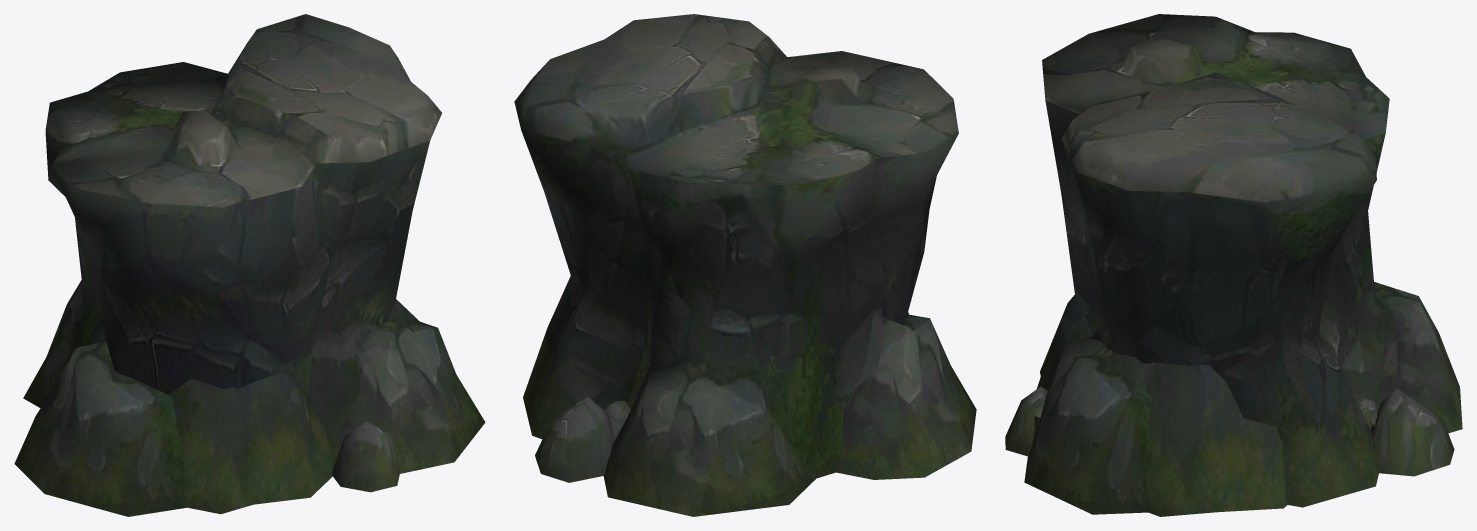
Rendered from h5_shitou_01.FBX.
The picture shows the model from 3 angles, left to right: view 1: azimuth 30°, elevation 25°; view 2: azimuth 150°, elevation 25°; view 3: azimuth 270°, elevation 25°; orthographic projection. The views are drawn at different scales.
Visible parts, largest first — view 1: h5_shitou_01; view 2: h5_shitou_01; view 3: h5_shitou_01.
Part boxes in pixels (box(x1,y1,x2,y2)): h5_shitou_01: box(14, 14, 485, 516); h5_shitou_01: box(514, 14, 976, 516); h5_shitou_01: box(1005, 14, 1462, 516).
Size of the model in its own units: 27.23 by 21.97 by 26.
